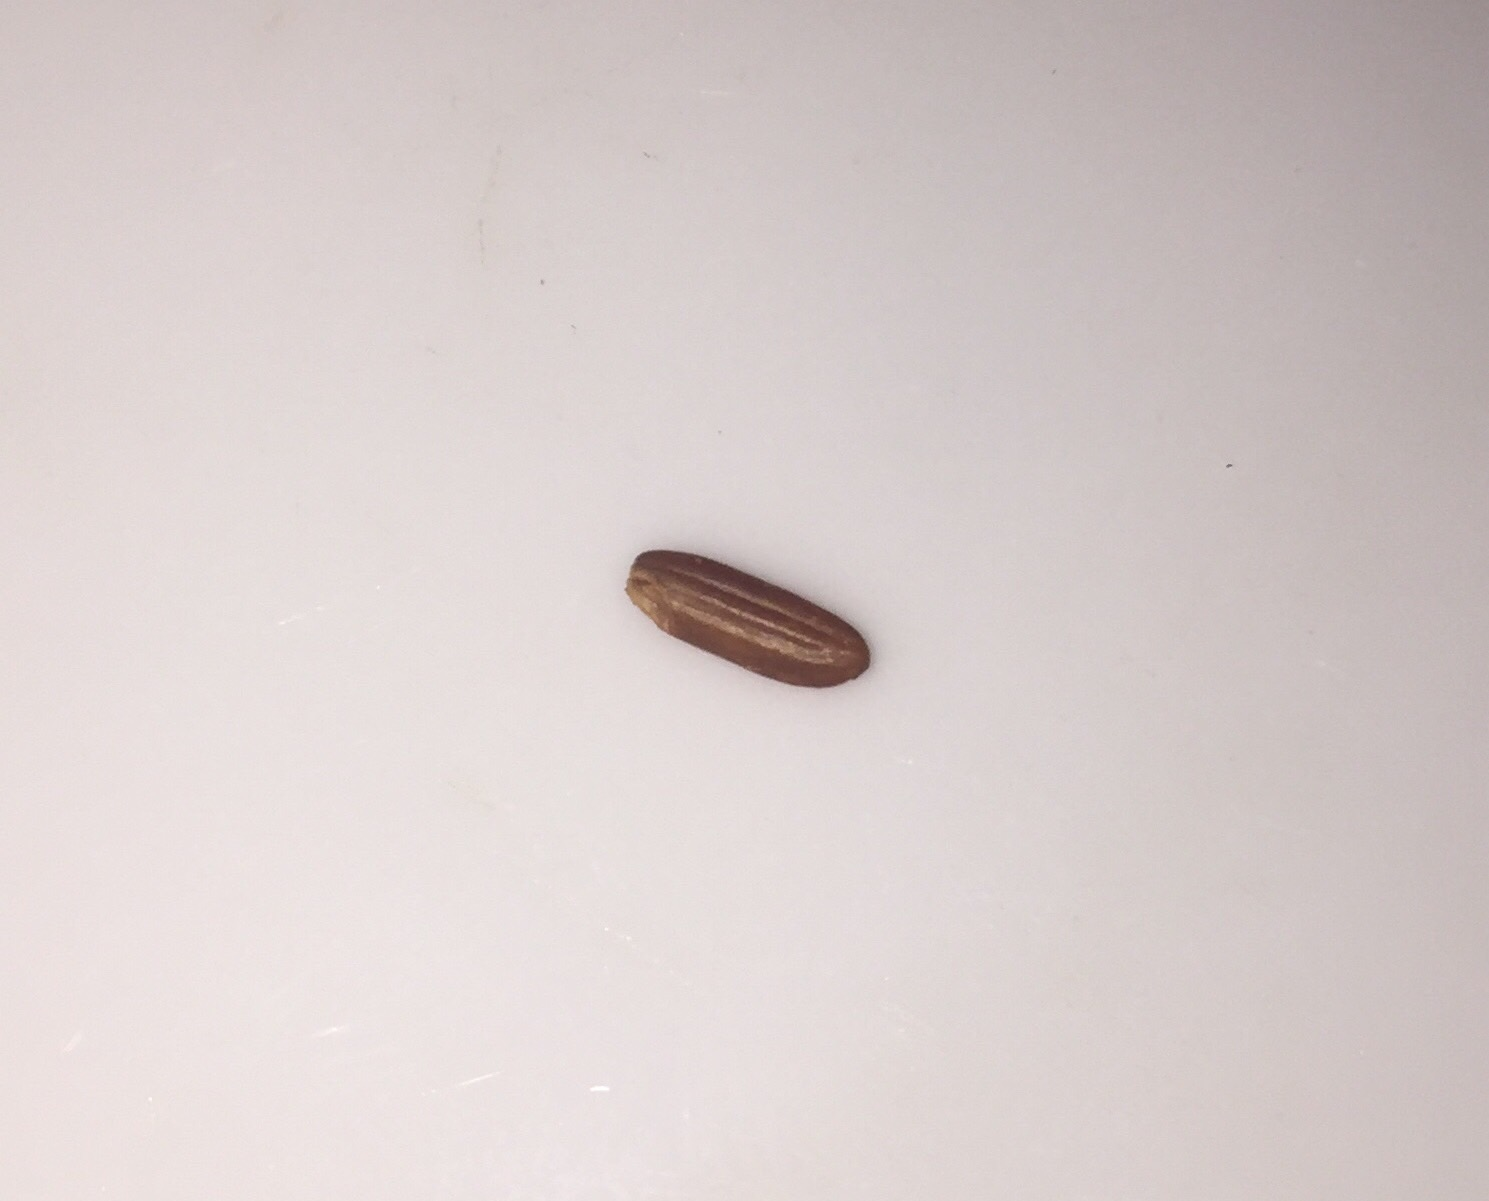Gao Huyet Rong: (619, 528, 876, 713)
